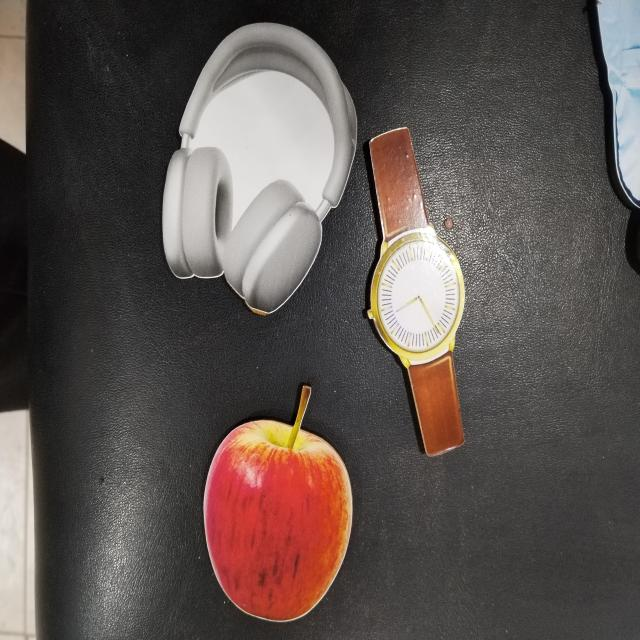Other Objects: (136, 0, 381, 346), (184, 402, 366, 640), (365, 127, 467, 456)
